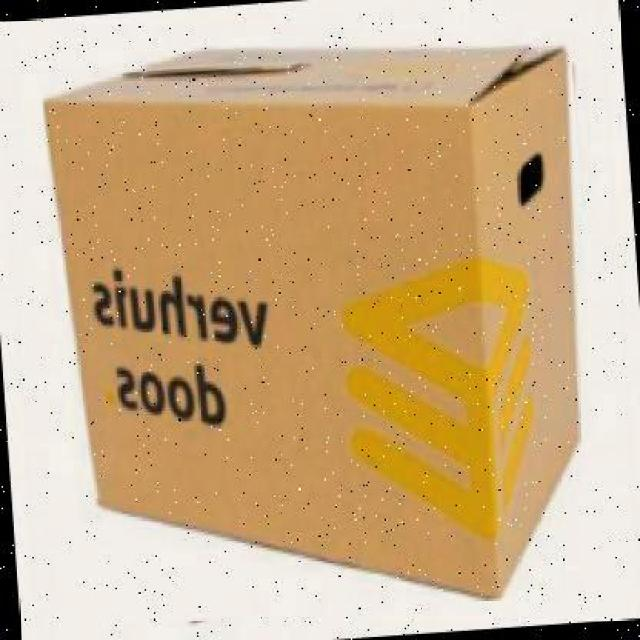box: (43, 46, 583, 604)
normal_hole: (515, 152, 544, 209)
